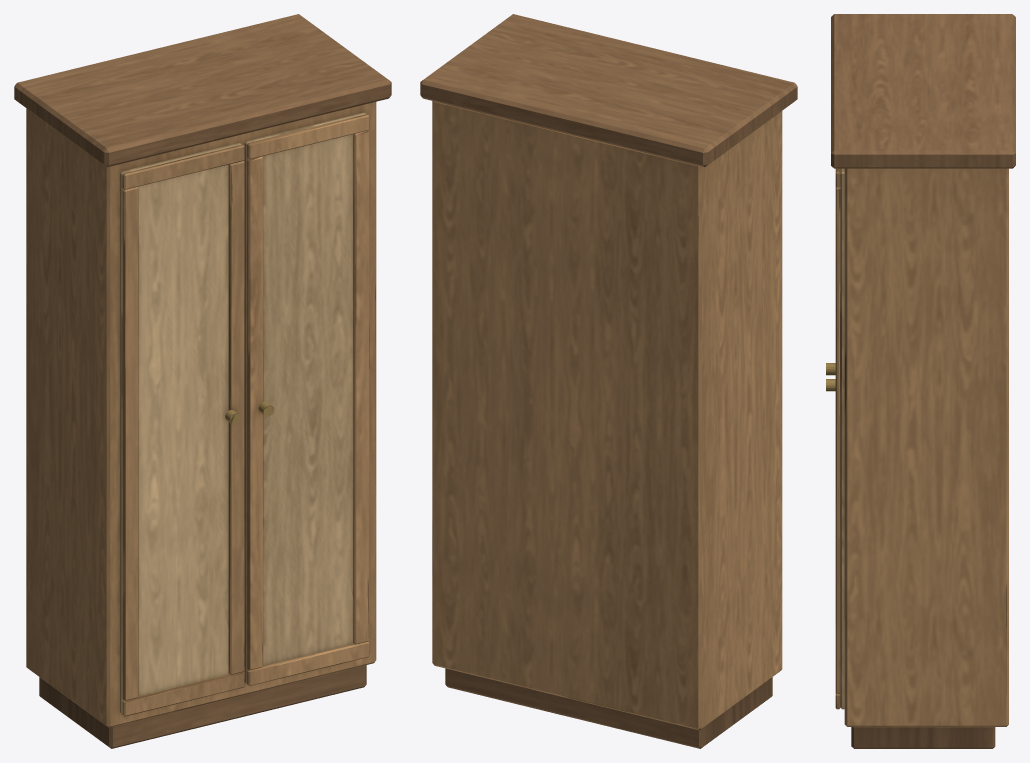
Rendered from pantry.glb.
3 views of the same model, side by side, from view 1: azimuth 30°, elevation 25°; view 2: azimuth 150°, elevation 25°; view 3: azimuth 270°, elevation 25° (orthographic).
Visible parts, largest first — view 1: pantry; view 2: pantry; view 3: pantry.
Boxes of the visible parts, x1,y1,x2,y2 form: pantry: [14, 14, 391, 748]; pantry: [420, 14, 797, 748]; pantry: [826, 14, 1015, 748].
Size of the model in its own units: 0.96 by 1.95 by 0.554.
Materials: 1 (1 with a texture image).
